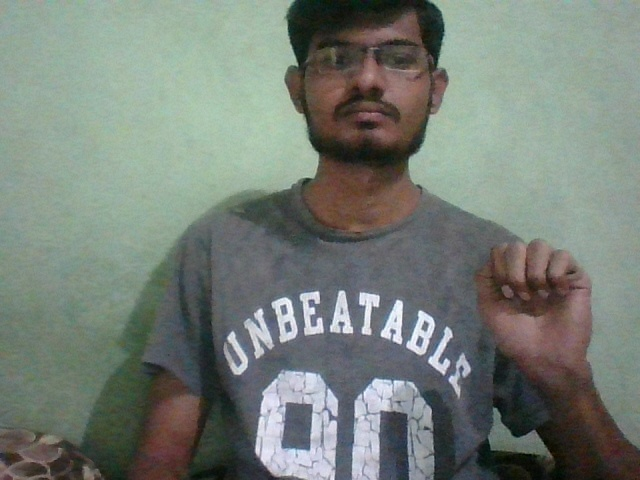goodby: (441, 208, 618, 393)
